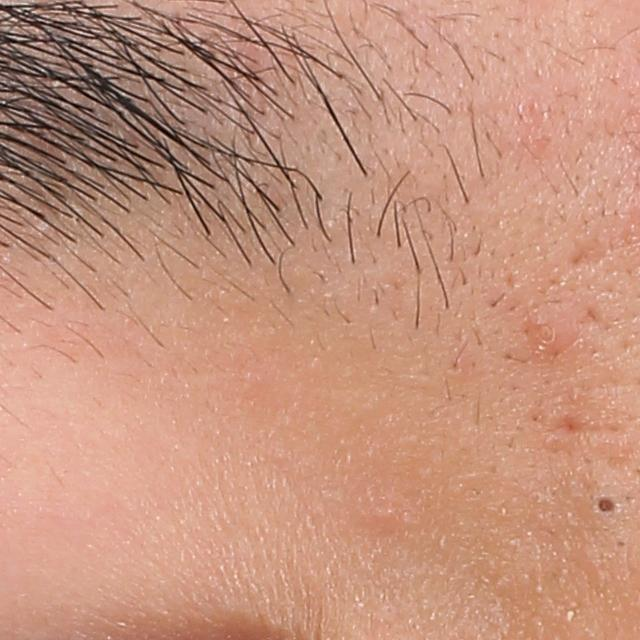atrophic_scar: (574, 234, 617, 271)
